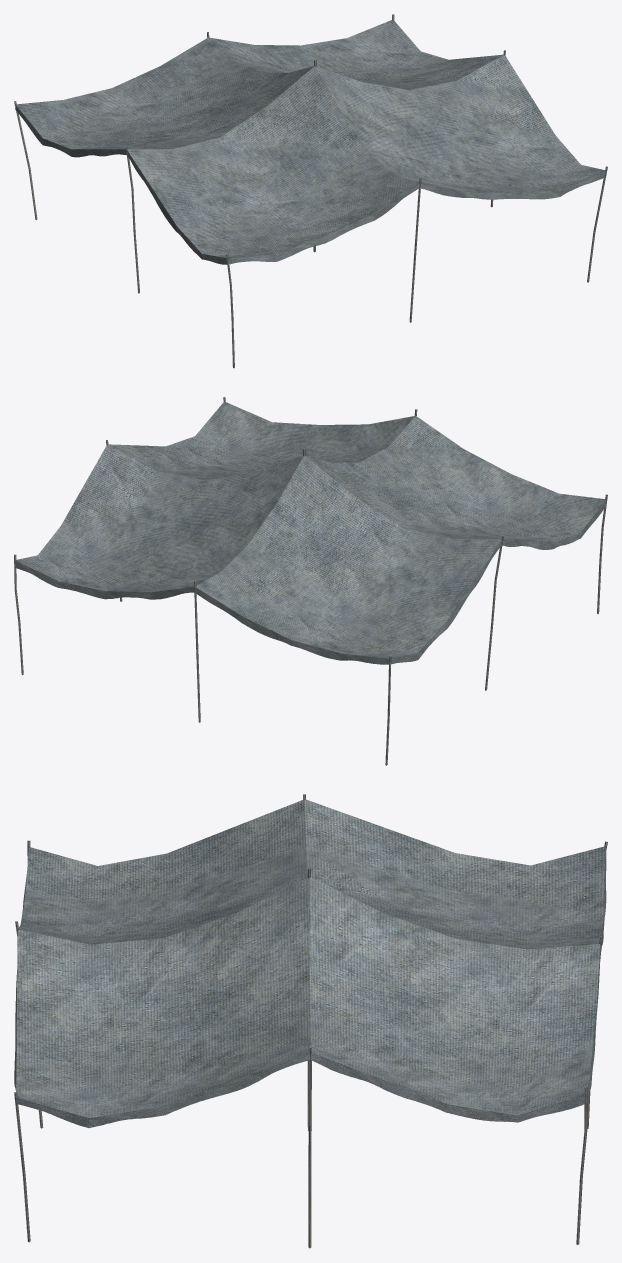
The model's file is poi_all_tent_large_l1.fbx.
3 views of the same model, one above another, from view 1: azimuth 30°, elevation 25°; view 2: azimuth 150°, elevation 25°; view 3: azimuth 270°, elevation 25° (orthographic). The views are drawn at different scales.
Parts seen in each view (by area): view 1: mesh_node; view 2: mesh_node; view 3: mesh_node.
Part boxes in pixels (x1,y1,x2,y2): mesh_node: [14, 14, 607, 368]; mesh_node: [14, 397, 607, 765]; mesh_node: [14, 794, 607, 1248].
Bounding box in the file's own units: 10.88 × 5.21 × 10.65.
